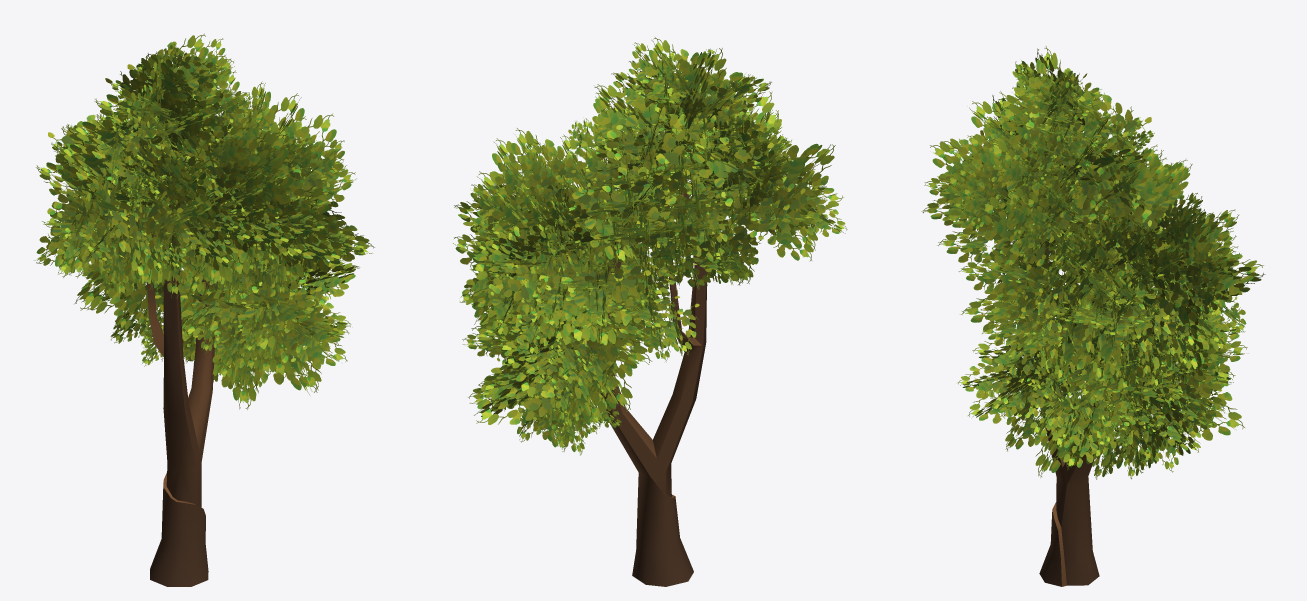
The model's file is Tree1D1.fbx.
3 renders of one model, left to right at view 1: azimuth 30°, elevation 25°; view 2: azimuth 150°, elevation 25°; view 3: azimuth 270°, elevation 25°, orthographic. The views are drawn at different scales.
Visible parts, largest first — view 1: Tree_1D; view 2: Tree_1D; view 3: Tree_1D.
Part boxes in pixels (x1=…): Tree_1D: x1=34, y1=33, x2=374, y2=586; Tree_1D: x1=453, y1=37, x2=847, y2=586; Tree_1D: x1=921, y1=46, x2=1265, y2=586.
Bounding box in the file's own units: 6.26 × 8.87 × 5.91.
